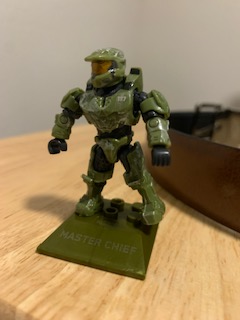chief: (47, 46, 172, 225)
spartan: (45, 44, 170, 223)
